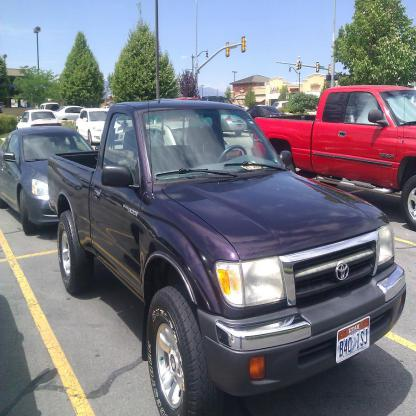Truck: (46, 46, 407, 415), (254, 85, 415, 232)
